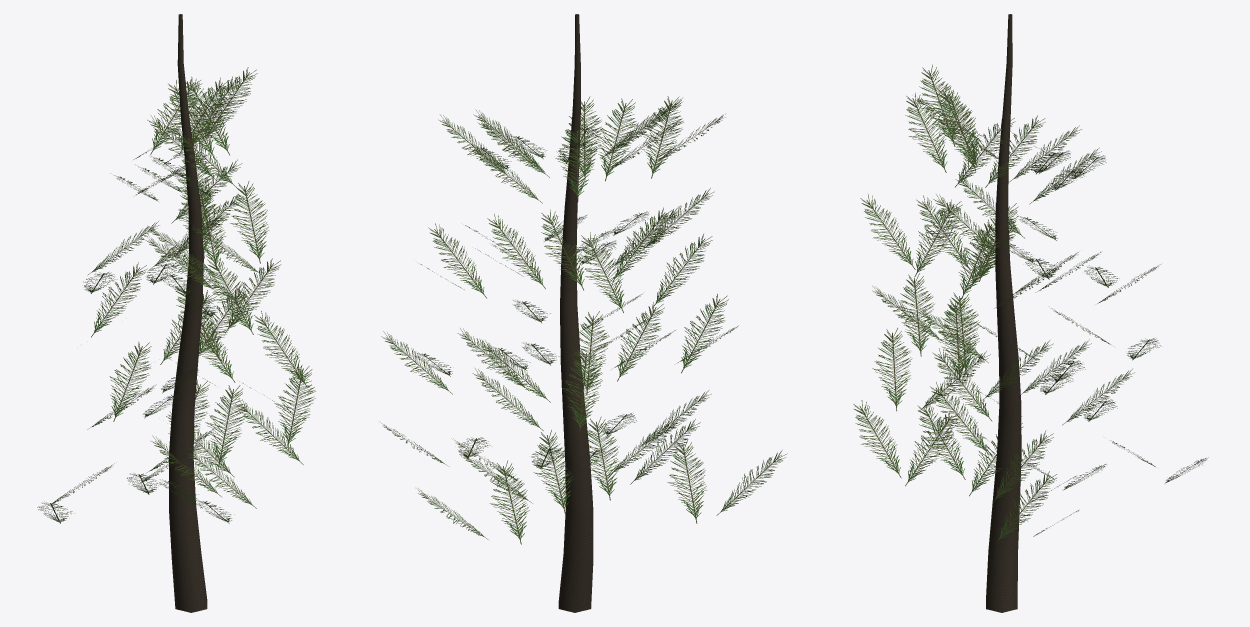
The model's file is Pine_47_LOD2.fbx.
3 renders of one model, left to right at view 1: azimuth 30°, elevation 25°; view 2: azimuth 150°, elevation 25°; view 3: azimuth 270°, elevation 25°, orthographic.
Parts seen in each view (by area): view 1: Pine_47_LOD2; view 2: Pine_47_LOD2; view 3: Pine_47_LOD2.
Part boxes in pixels (x1,y1,x2,y2): Pine_47_LOD2: [37, 14, 315, 612]; Pine_47_LOD2: [381, 14, 787, 612]; Pine_47_LOD2: [853, 14, 1208, 612].
Bounding box in the file's own units: 606 × 906 × 570.
